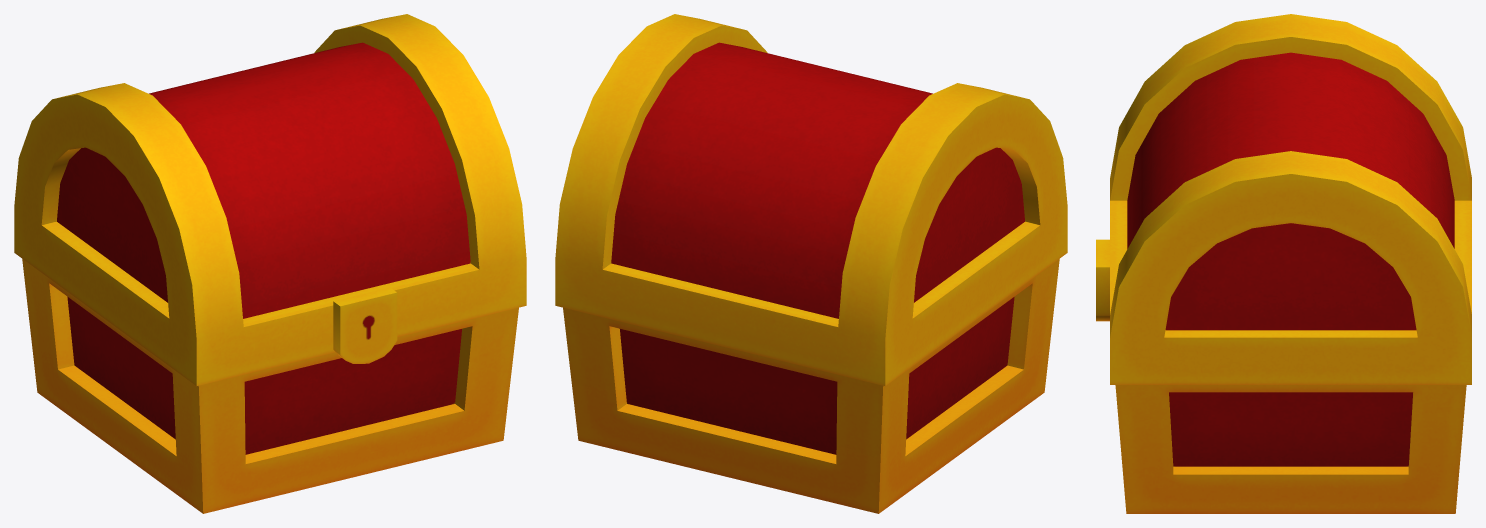
Rendered from chest.glb.
3 views of the same model, side by side, from view 1: azimuth 30°, elevation 25°; view 2: azimuth 150°, elevation 25°; view 3: azimuth 270°, elevation 25° (orthographic).
Parts seen in each view (by area): view 1: TreasureChest; view 2: TreasureChest; view 3: TreasureChest.
Part boxes in pixels (left/top/right/bottom): TreasureChest: left=14, top=14, right=526, bottom=513; TreasureChest: left=555, top=14, right=1067, bottom=513; TreasureChest: left=1096, top=14, right=1471, bottom=513.
Bounding box in the file's own units: 2.27 × 2.3 × 2.26.
Materials: 1 (1 with a texture image).
